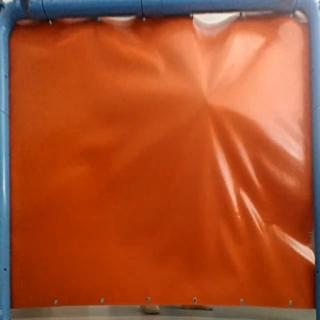Hit-hRxx: (202, 97, 216, 111)
